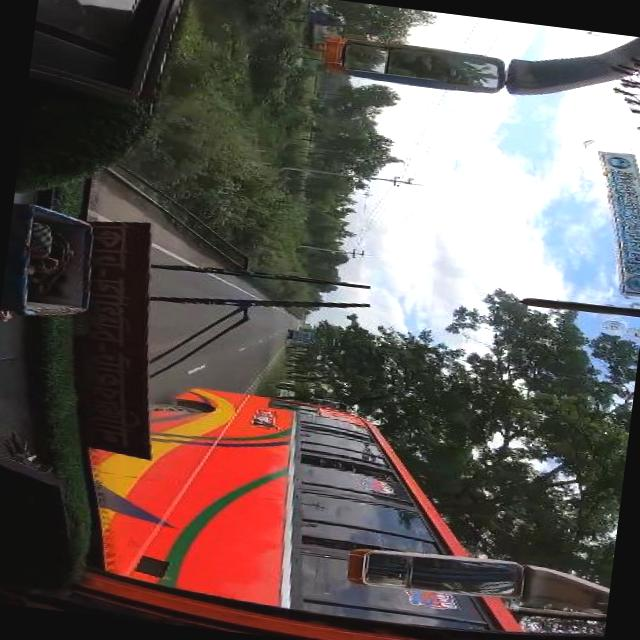bus: (88, 375, 542, 635)
truck: (289, 330, 316, 344)
